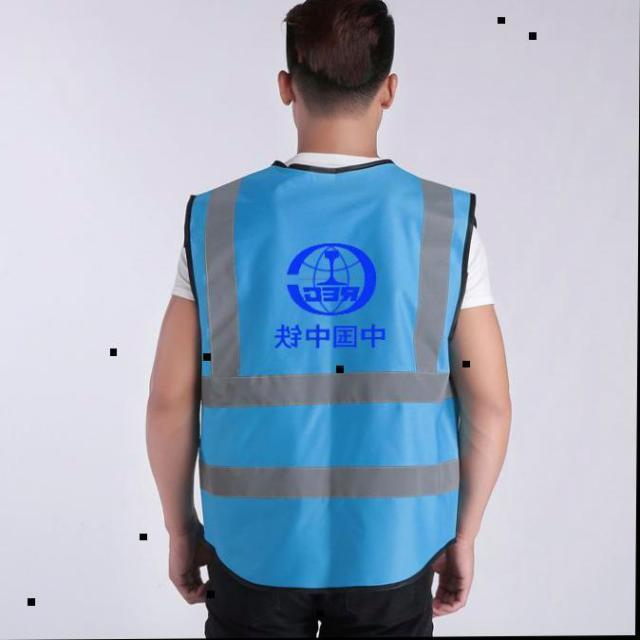safety_helmet: (155, 157, 511, 603)
